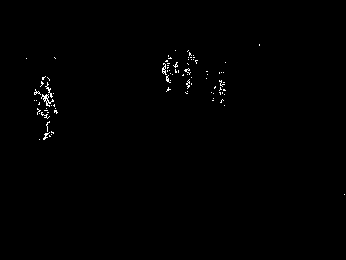person: (32, 74, 59, 142)
